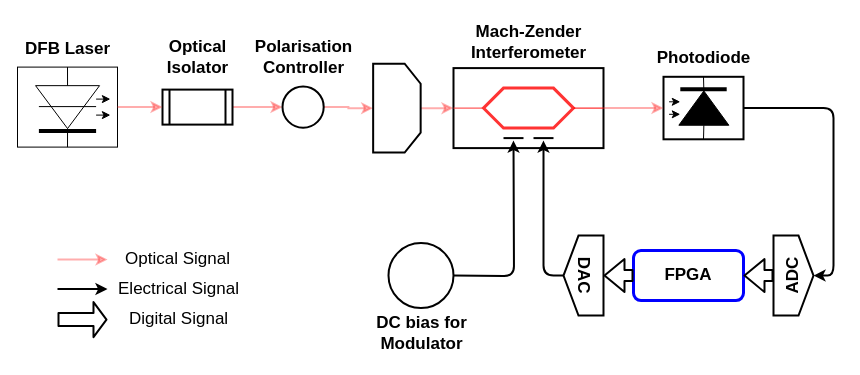
The diagram is 860 pixels wide and 375 high, and some of its shapes have lost their labels. The shapes that lost their labels are listed below. From the top down, each one's centre as x and y in pixels, then its label:
At (396,107): "Fibre Amplifier".
At (420,275): "V dc".
